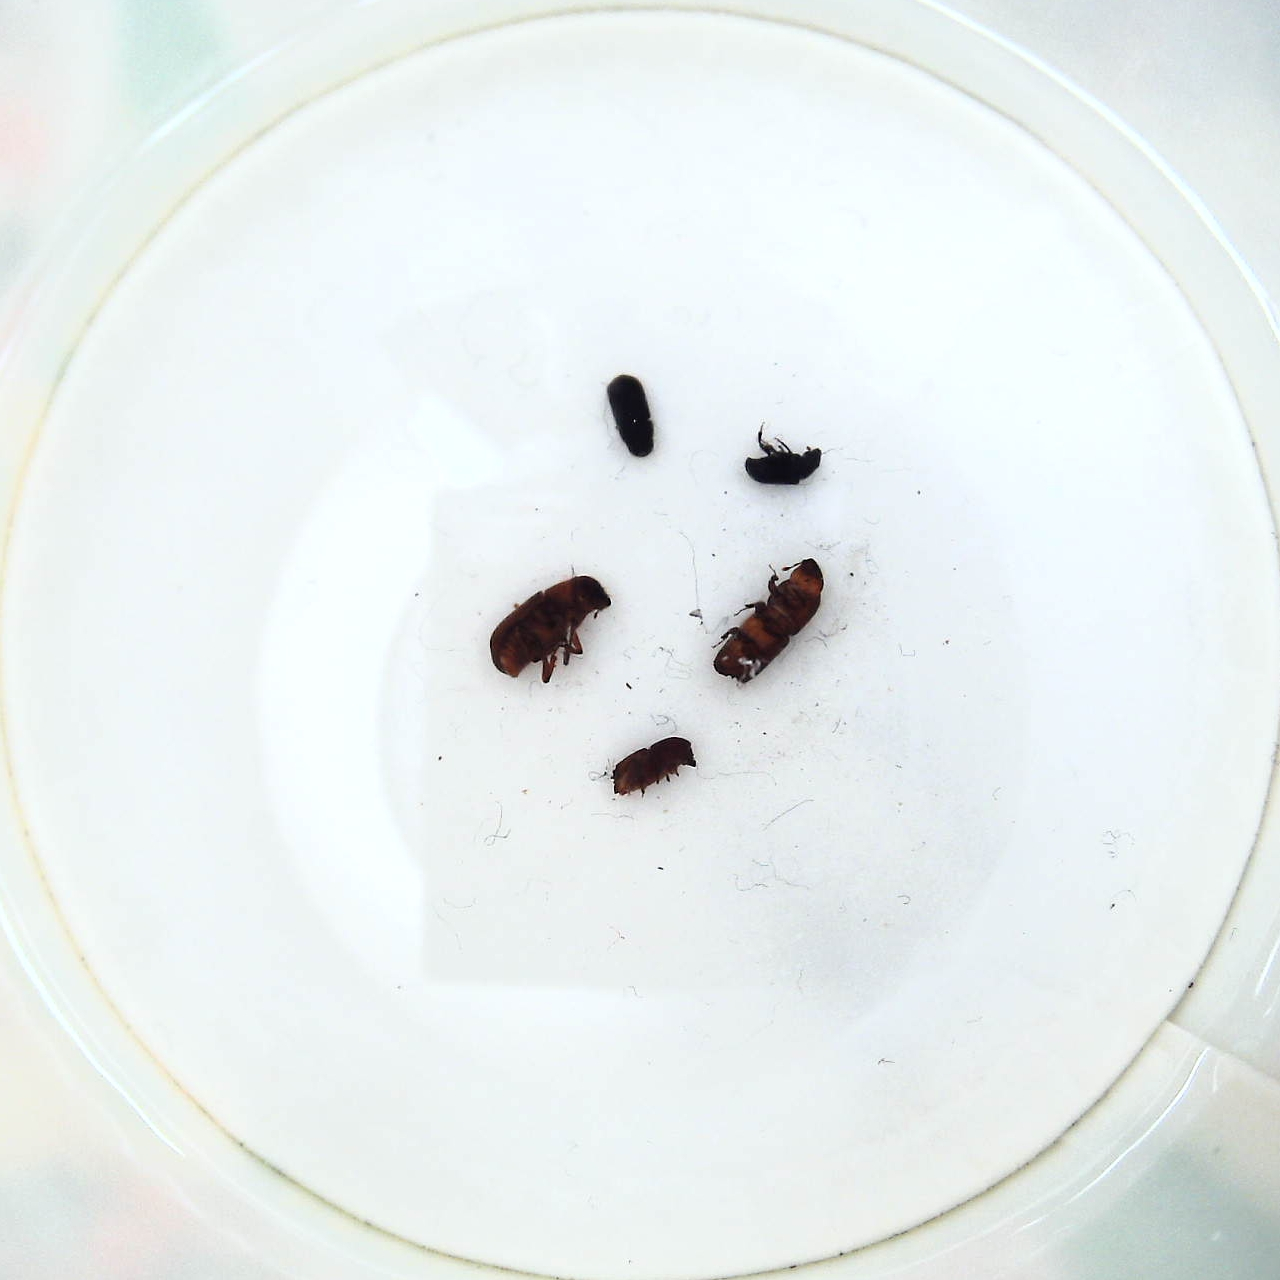Boerner: (712, 553, 828, 687)
Leconte: (485, 572, 615, 690)
armandi: (602, 375, 663, 465)
coleoptera: (744, 418, 822, 490)
linnaeus: (605, 736, 704, 794)
